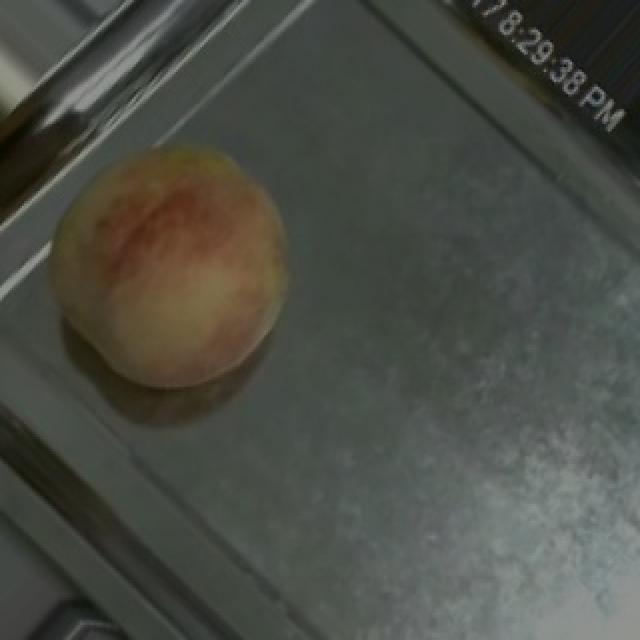Fruit: (8, 94, 338, 439)
